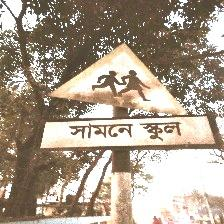School-in-front: (44, 42, 221, 151)
